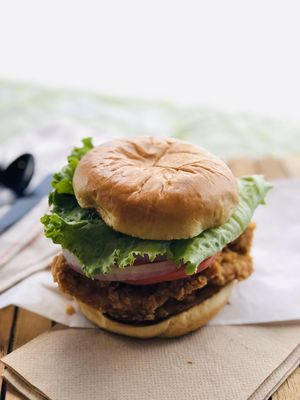soup: (38, 135, 273, 340)
